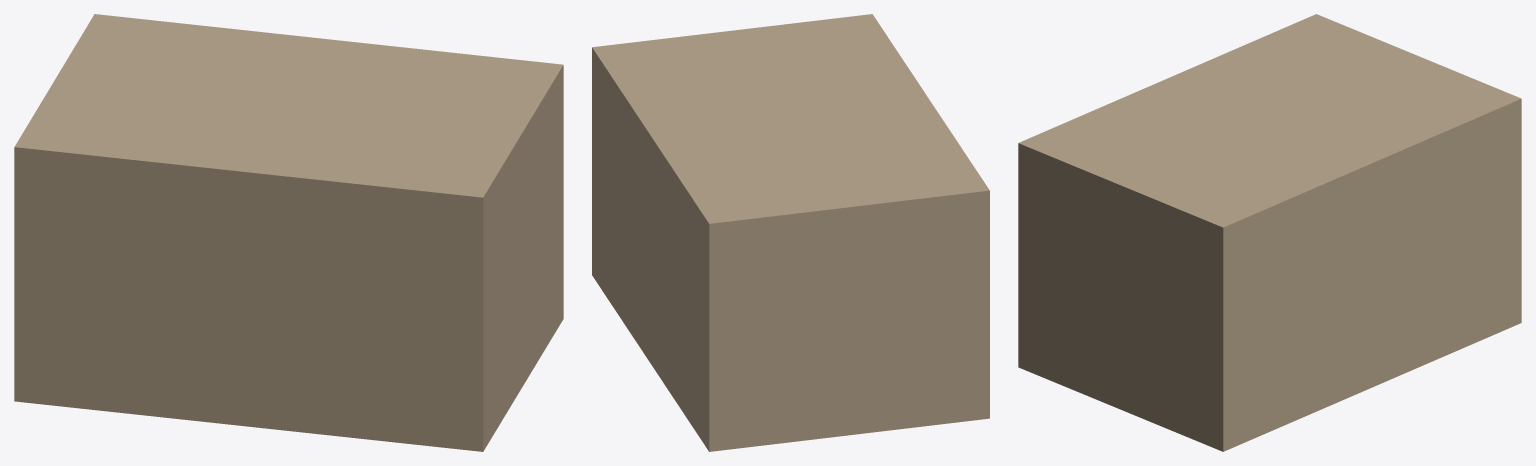
Rendered from bld_100478330.dae.
3 renders of one model, left to right at view 1: azimuth 30°, elevation 25°; view 2: azimuth 150°, elevation 25°; view 3: azimuth 270°, elevation 25°, orthographic. The views are drawn at different scales.
Visible parts, largest first — view 1: bld_100478330; view 2: bld_100478330; view 3: bld_100478330.
Boxes of the visible parts, x1=… form: bld_100478330: x1=14, y1=14, x2=563, y2=451; bld_100478330: x1=592, y1=14, x2=989, y2=451; bld_100478330: x1=1018, y1=14, x2=1521, y2=451.
Size of the model in its own units: 16.34 by 16.27 by 8.
